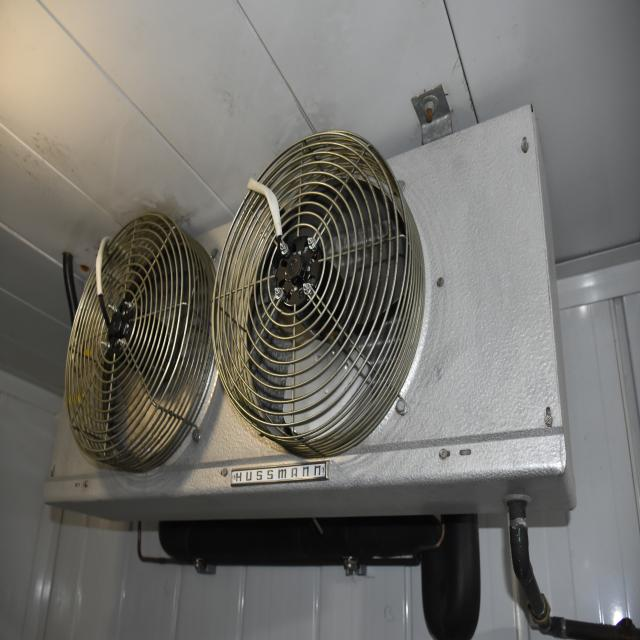electronics: (212, 132, 425, 458), (65, 213, 213, 472), (75, 449, 77, 452)
